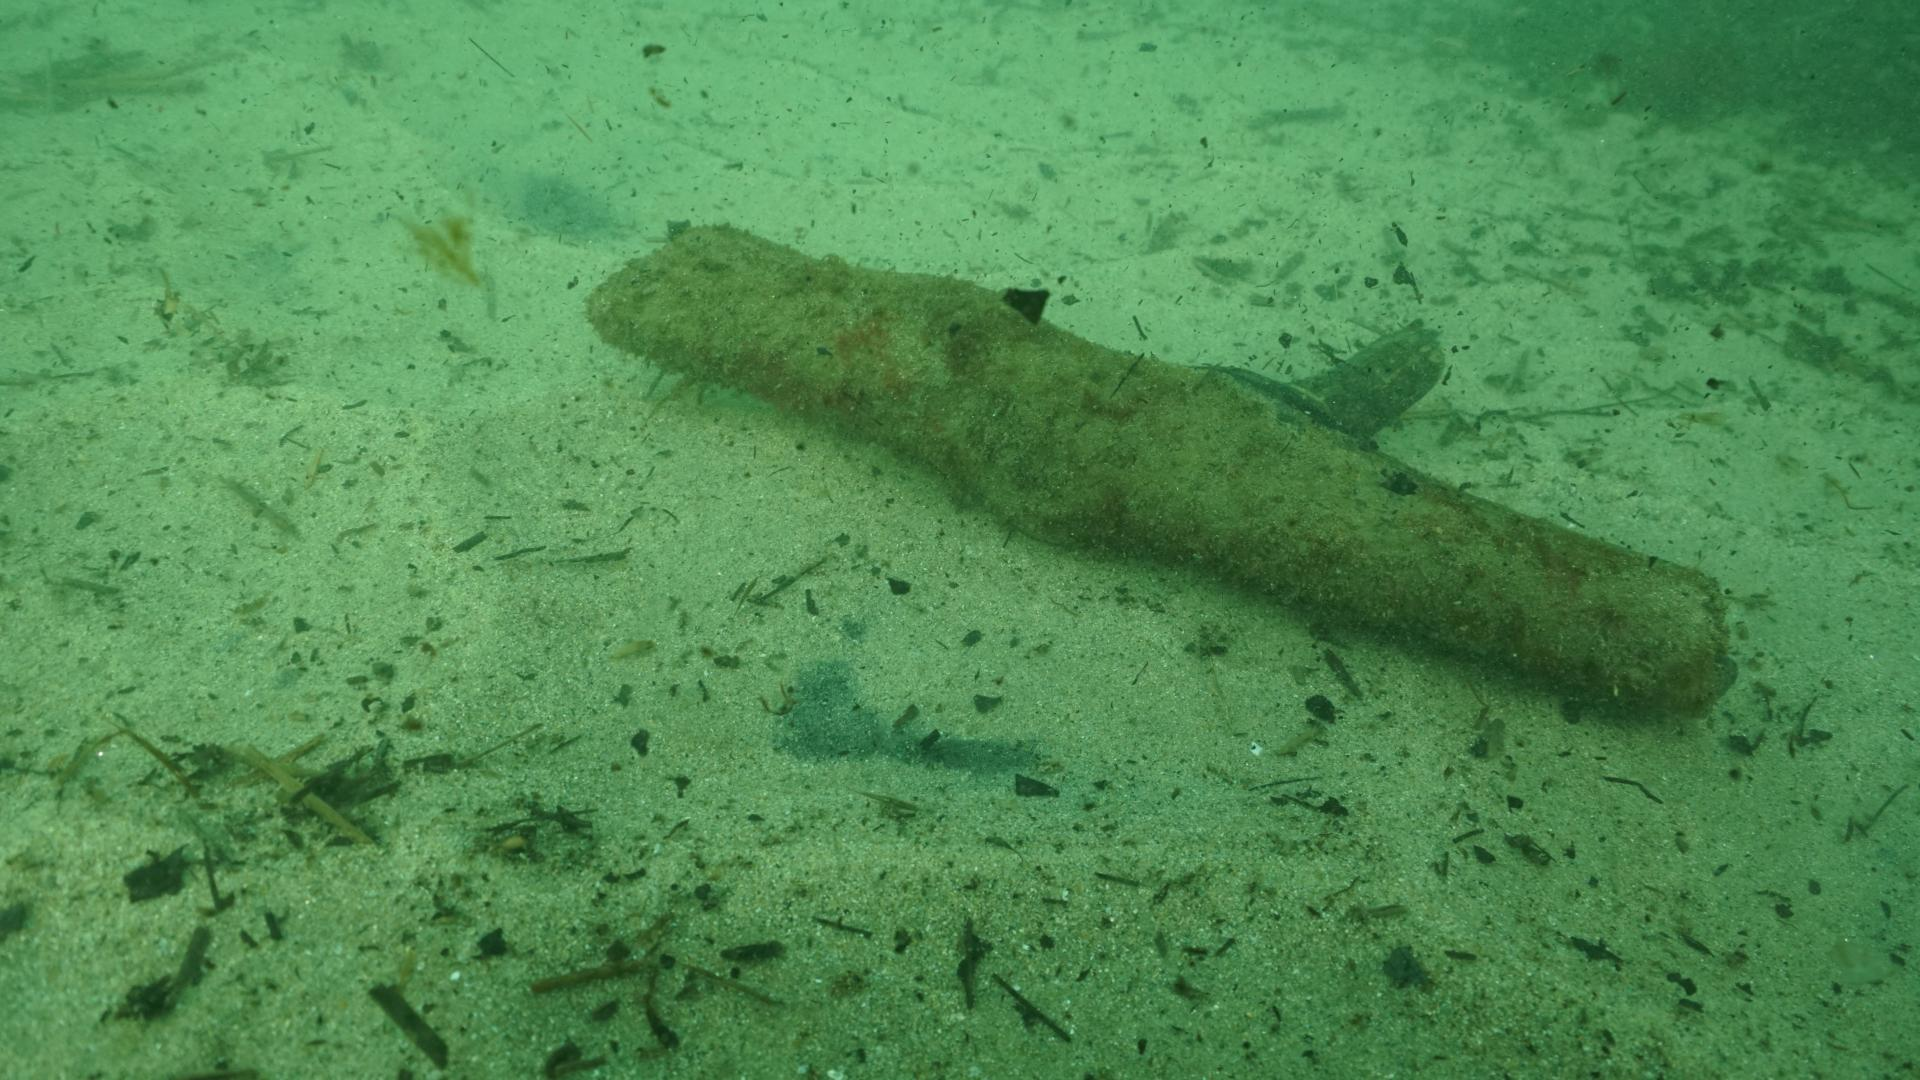wood: (583, 222, 1739, 720)
